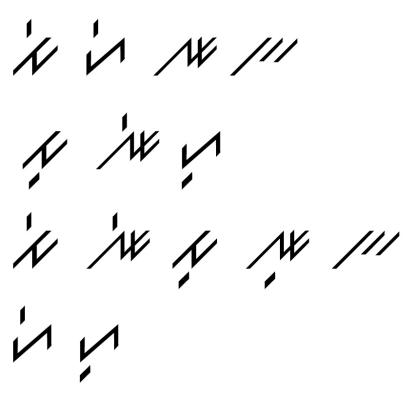he: (81, 17, 135, 82), (9, 300, 59, 366)
hu: (71, 310, 125, 384), (175, 116, 225, 192)
mbe: (8, 19, 64, 84), (6, 205, 60, 270)
mbu: (15, 123, 75, 194), (167, 218, 219, 291)
nda: (151, 27, 220, 77)
nde: (80, 206, 154, 278), (89, 108, 163, 175)
ndu: (238, 222, 311, 292)
